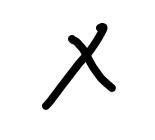mult: (42, 23, 116, 110)
